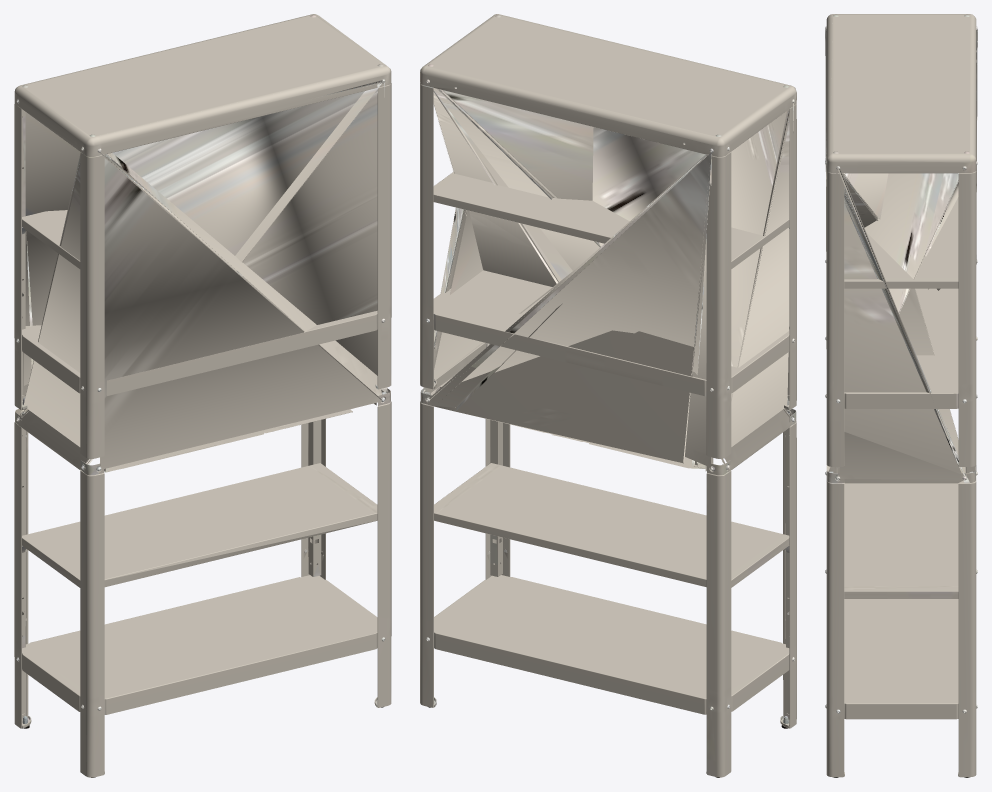
The model's file is kolbjorn_rega_zew_wew_99291646.glb.
3 renders of one model, left to right at view 1: azimuth 30°, elevation 25°; view 2: azimuth 150°, elevation 25°; view 3: azimuth 270°, elevation 25°, orthographic. The views are drawn at different scales.
Parts seen in each view (by area): view 1: kolbjorn_rega_zew_wew_99291646; view 2: kolbjorn_rega_zew_wew_99291646; view 3: kolbjorn_rega_zew_wew_99291646.
Boxes of the visible parts, bbox=[...] form: kolbjorn_rega_zew_wew_99291646: bbox=[14, 14, 391, 777]; kolbjorn_rega_zew_wew_99291646: bbox=[420, 14, 796, 777]; kolbjorn_rega_zew_wew_99291646: bbox=[825, 14, 977, 777].
Size of the model in its own units: 0.8057 by 1.61 by 0.3557.
1 material, 1 textured.
